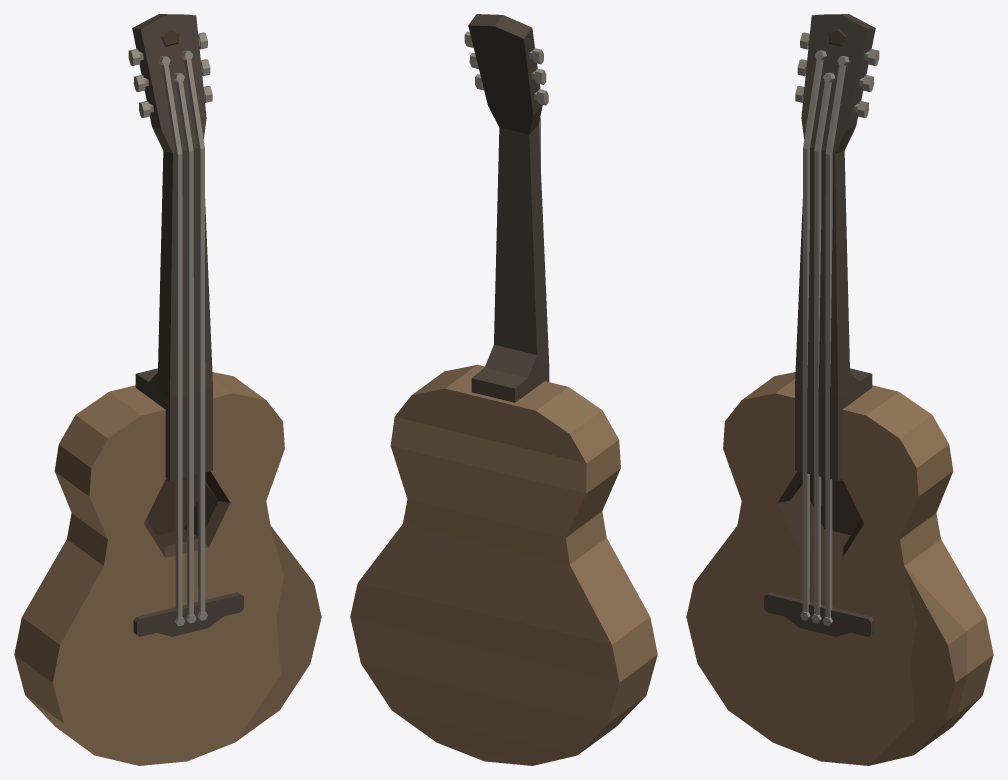
The model's file is SM_Props_Concert_Guitar.fbx.
The picture shows the model from 3 angles, left to right: view 1: azimuth 30°, elevation 25°; view 2: azimuth 150°, elevation 25°; view 3: azimuth 330°, elevation 25°; orthographic projection.
Parts seen in each view (by area): view 1: SM_Props_Concert_Guitar; view 2: SM_Props_Concert_Guitar; view 3: SM_Props_Concert_Guitar.
Part boxes in pixels (<box>): SM_Props_Concert_Guitar: <box>14,14,321,765</box>; SM_Props_Concert_Guitar: <box>350,14,657,765</box>; SM_Props_Concert_Guitar: <box>686,14,993,765</box>.
Size of the model in its own units: 47.66 by 124 by 13.53.
